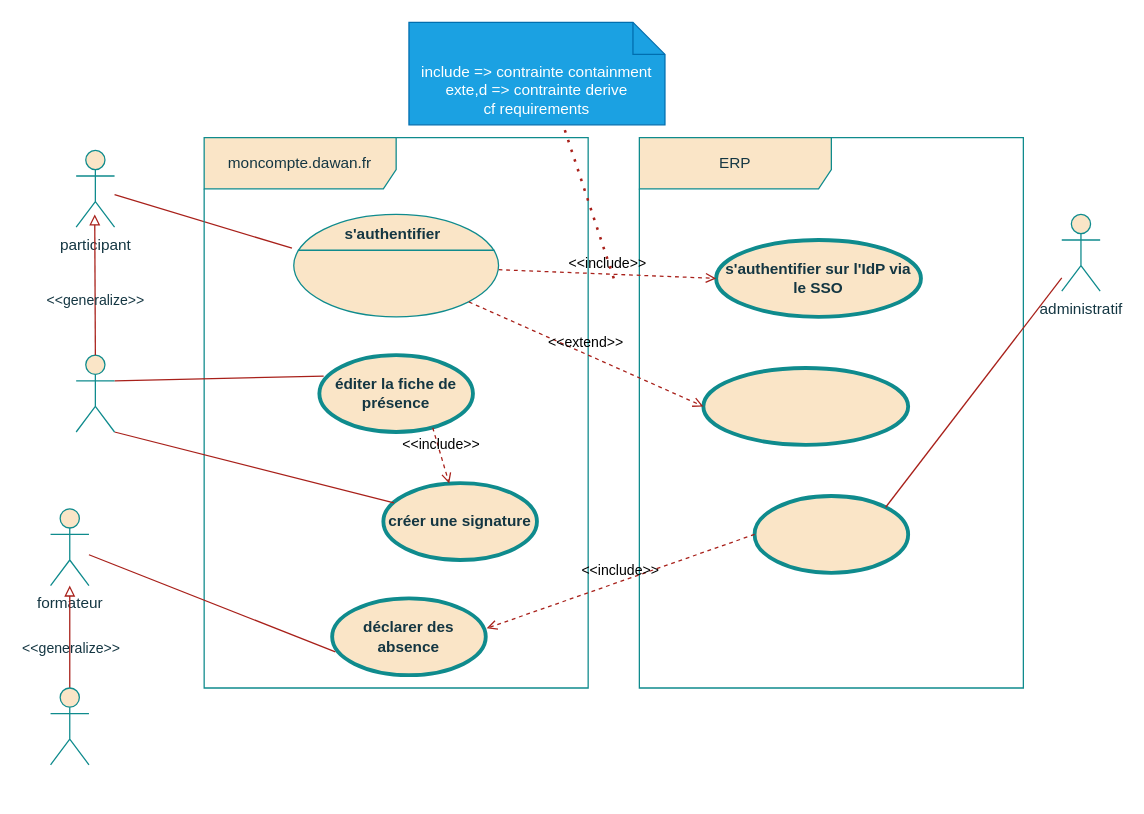
Some shapes in this 1144 by 814 pixel diagram are drawn without their labels. Here are the shapes that lost their labels. From the top down, the box of each, then its label:
(292, 213, 499, 317): extension points gérer mdp oublié
(75, 354, 115, 432): participant loggé
(701, 365, 909, 446): gérer le mdp oublié
(752, 493, 909, 574): appeler pariticpant absent
(49, 687, 89, 765): freelance
